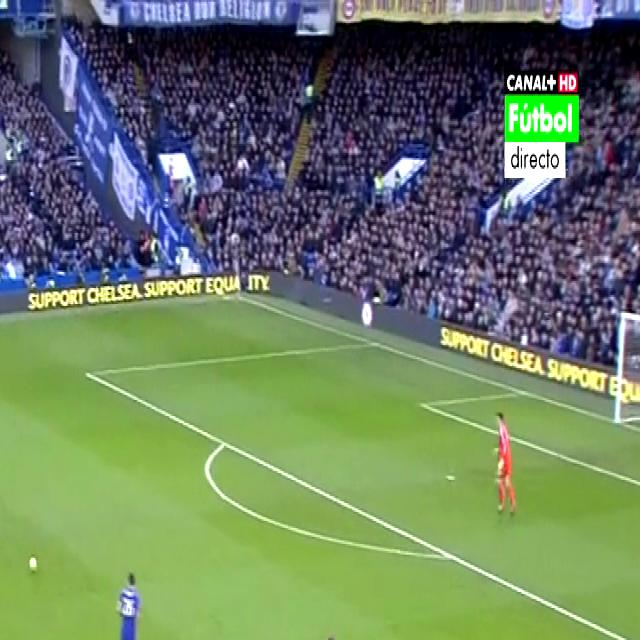ball: (27, 549, 41, 579)
referee: (492, 399, 528, 523)
soccer-player: (110, 565, 145, 640), (313, 618, 356, 640)
